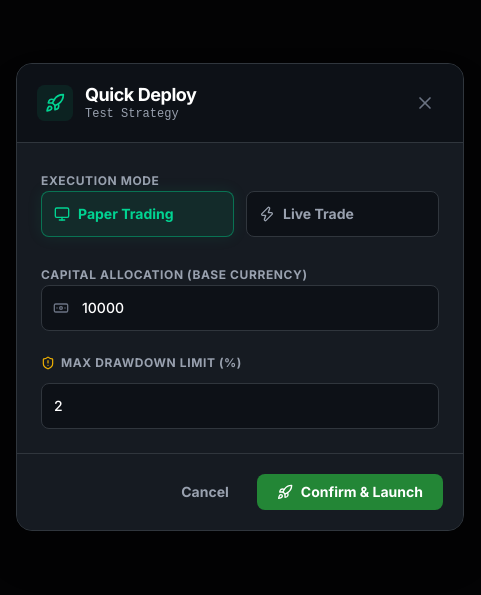
DeployStrategyModal › toggles execution modes successfully
Expected: the text "Integrated Brokerage" is not shown
// Click Live
Click the button "Live Trade".
click(342, 214)  # box top-left (246, 191), bottom-right (439, 237)
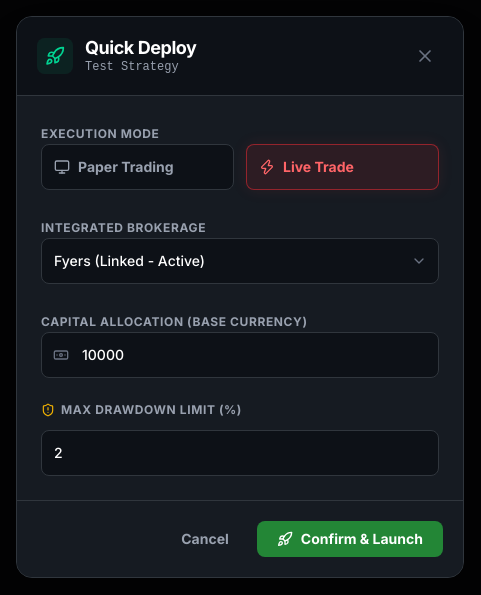
Expected: the text "Integrated Brokerage" is shown, top-left (41, 220), bottom-right (206, 235)
// Click Paper
Click the button "Paper Trading".
click(138, 167)  # box top-left (41, 144), bottom-right (234, 190)
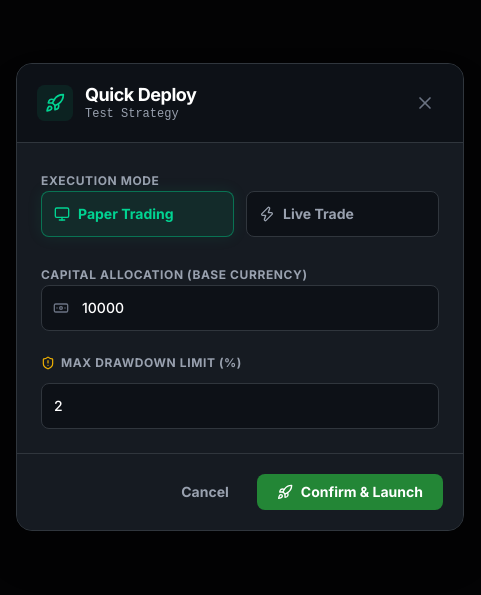
Expected: the text "Integrated Brokerage" is gone
